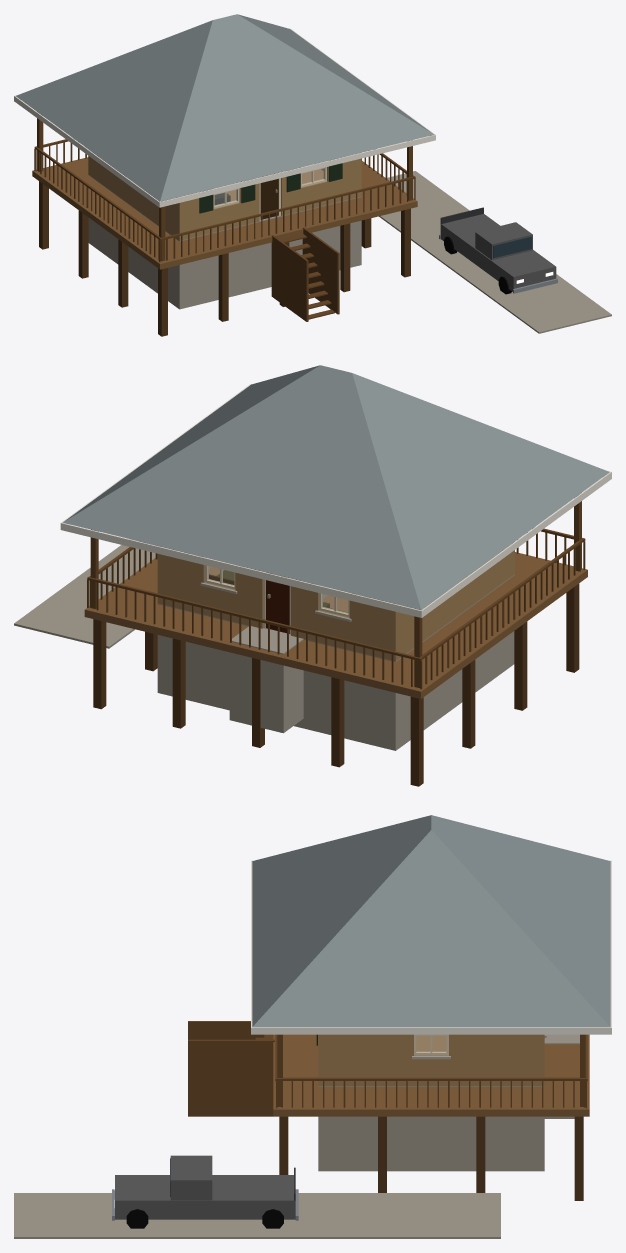
The model's file is stilt.glb.
3 views of the same model, one above another, from view 1: azimuth 30°, elevation 25°; view 2: azimuth 150°, elevation 25°; view 3: azimuth 270°, elevation 25° (orthographic). The views are drawn at different scales.
Visible parts, largest first — view 1: LOD0, LEAF0; view 2: LOD0, LEAF1; view 3: LOD0.
Part boxes in pixels (x1,y1,x2,y2): LOD0: [14, 14, 611, 336]; LEAF0: [260, 173, 278, 219]; LOD0: [14, 365, 611, 786]; LEAF1: [266, 572, 289, 633]; LOD0: [14, 815, 611, 1238].
Size of what is drawn, in the model's own units: 14.69 by 9.61 by 17.19.
